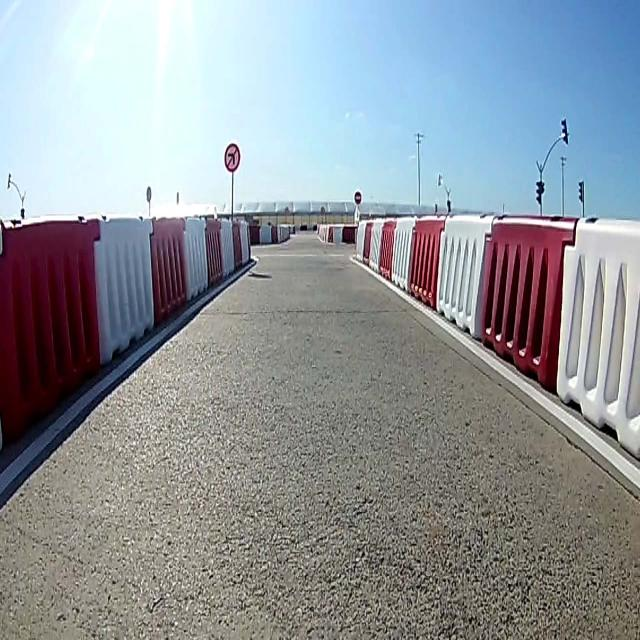girisyok: (354, 188, 362, 204)
soladonulmez: (225, 142, 239, 170)
